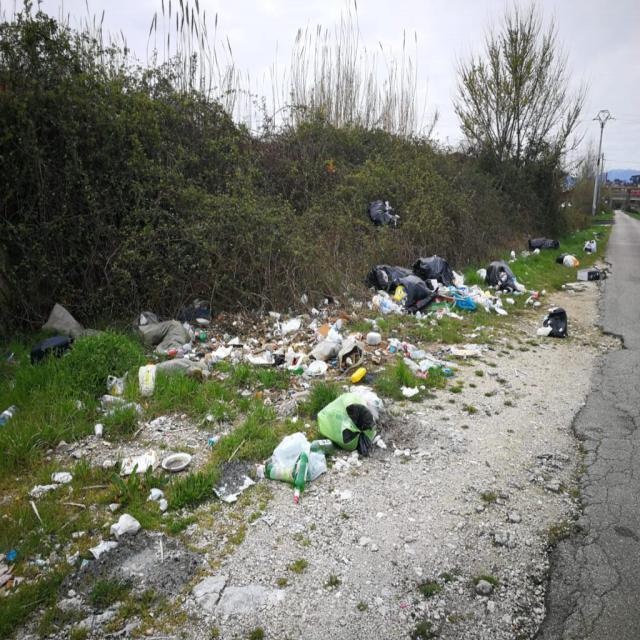Trashbag: (394, 279, 432, 311), (416, 255, 457, 282), (368, 200, 401, 233), (371, 262, 414, 286), (539, 308, 571, 340), (487, 260, 517, 292), (32, 334, 70, 359)
